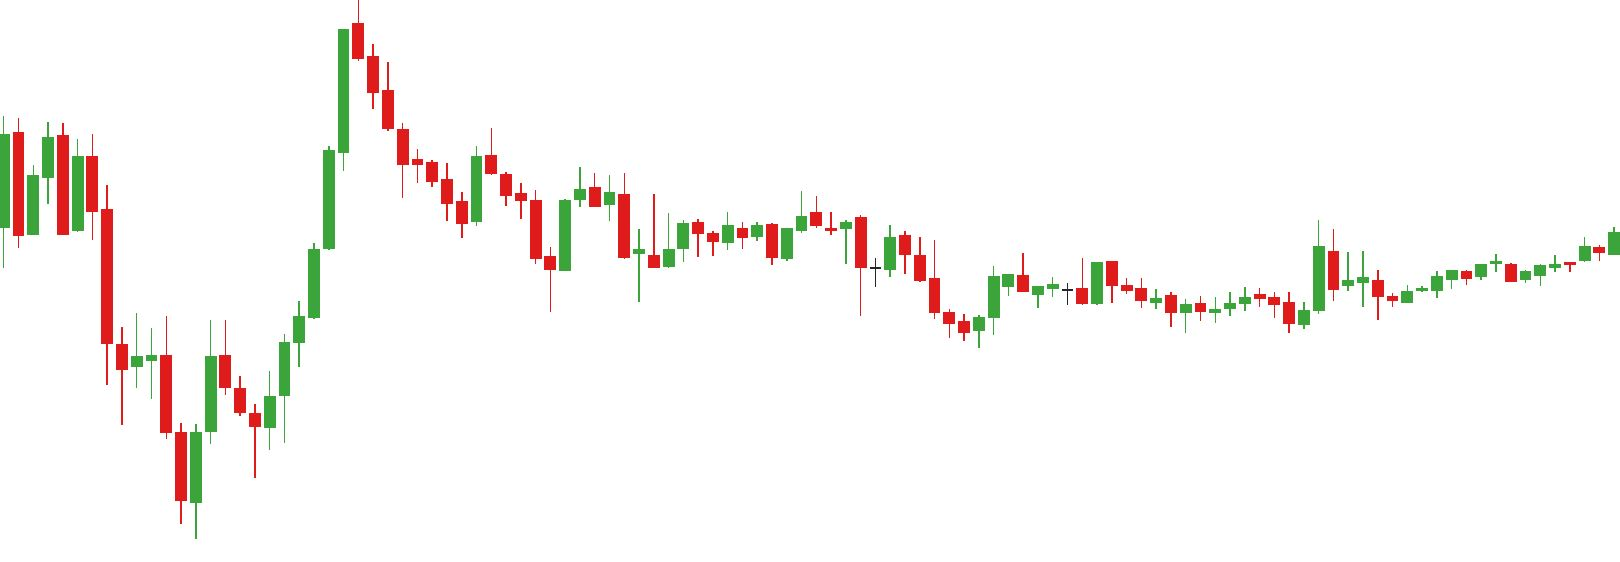buy: (113, 341, 218, 542)
